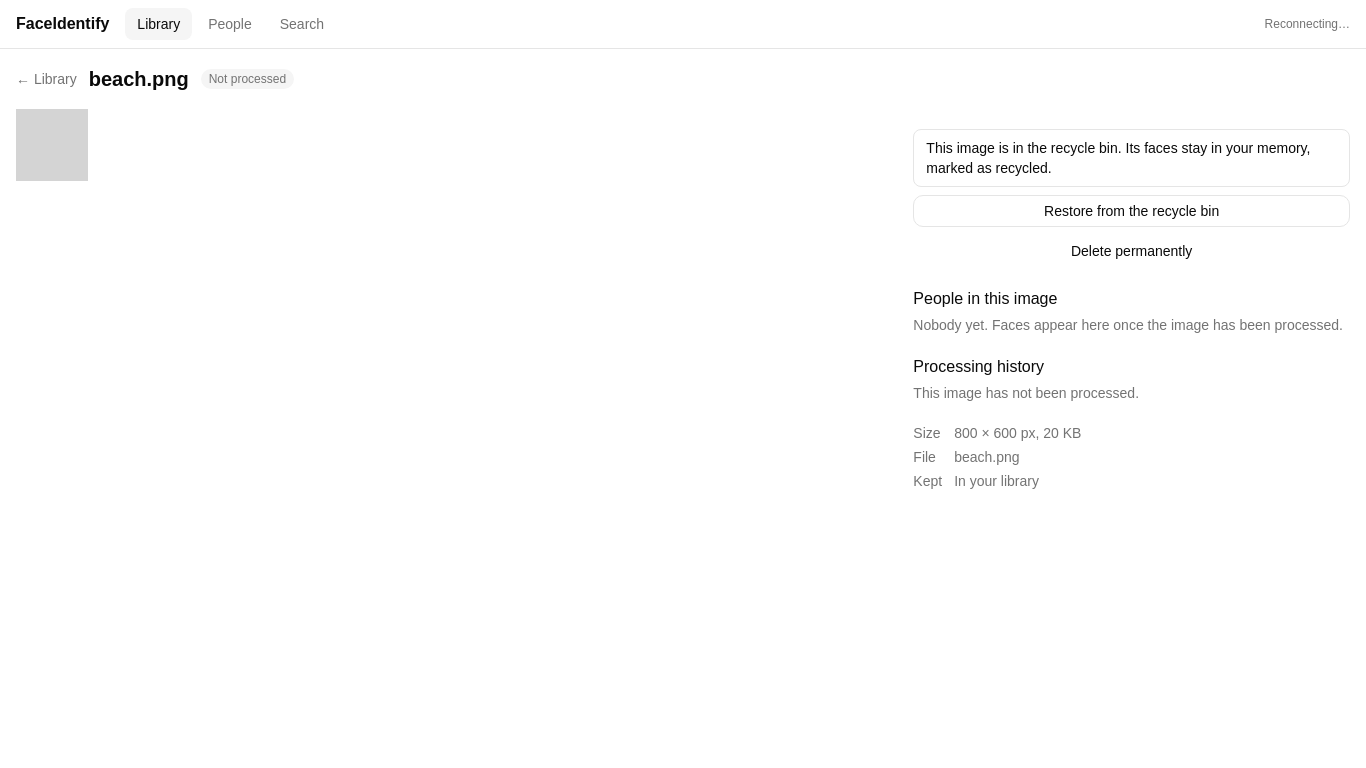
Test: a source › leaves the page, and lets go of the picture, when its image is deleted for good
Click the button with aria-label "Delete beach.png permanently": (1132, 251) [913,235,1350,267]
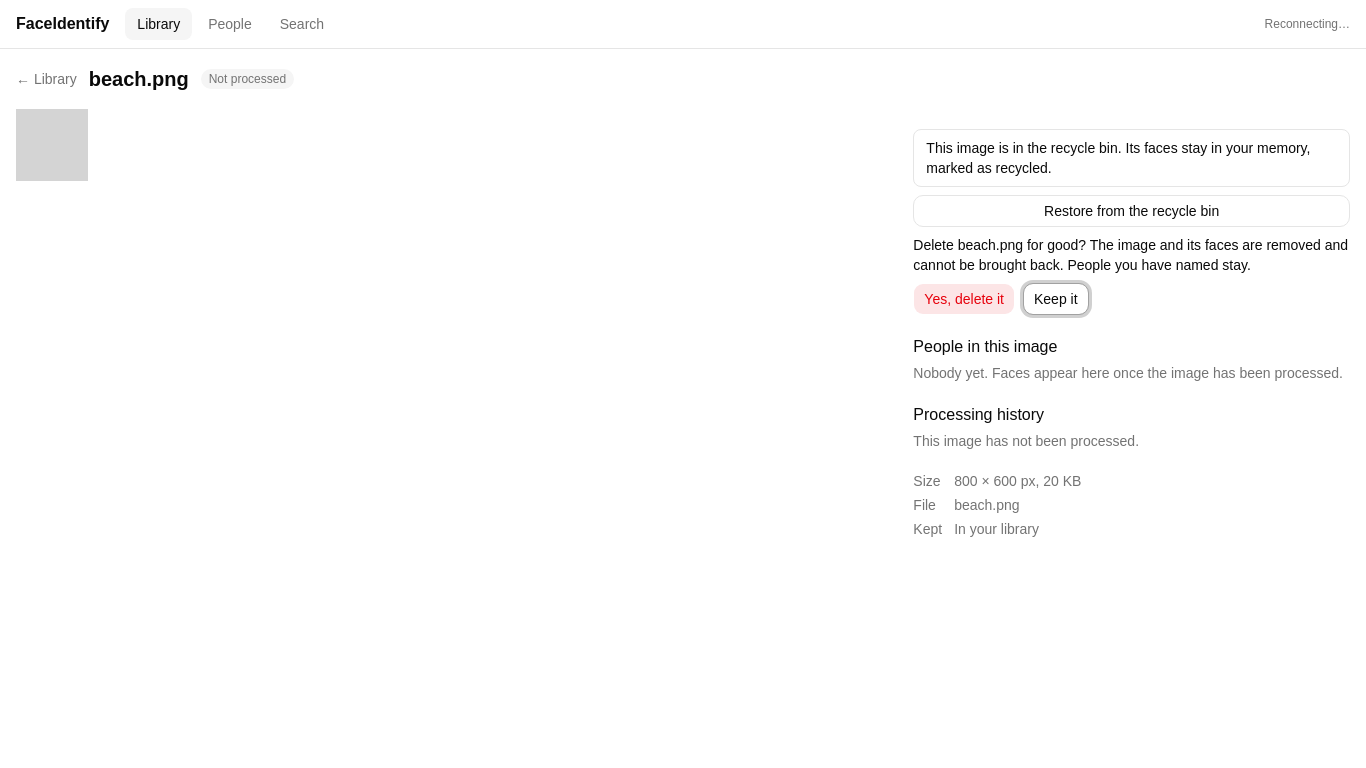
Click the button "Yes, delete it": (964, 299) [913,283,1015,315]
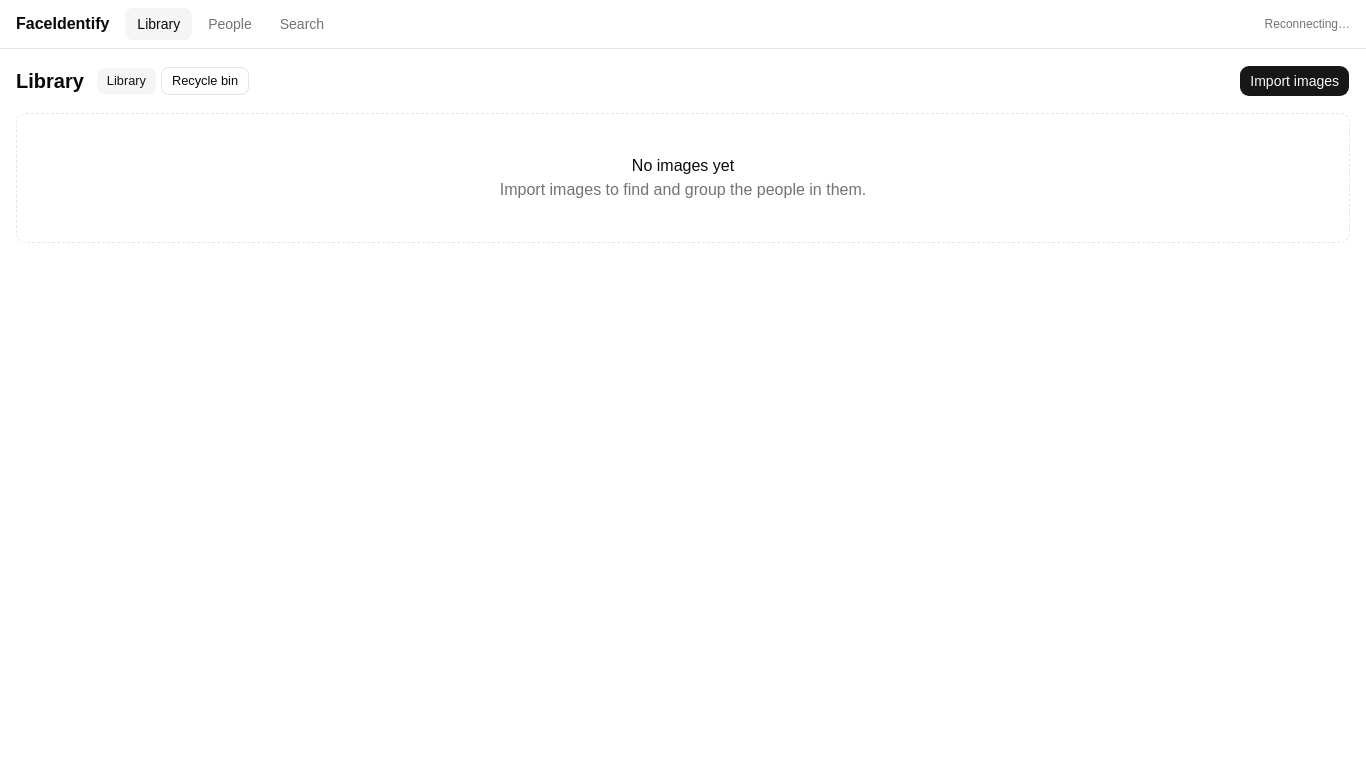
Expected: the heading "beach.png" is gone
